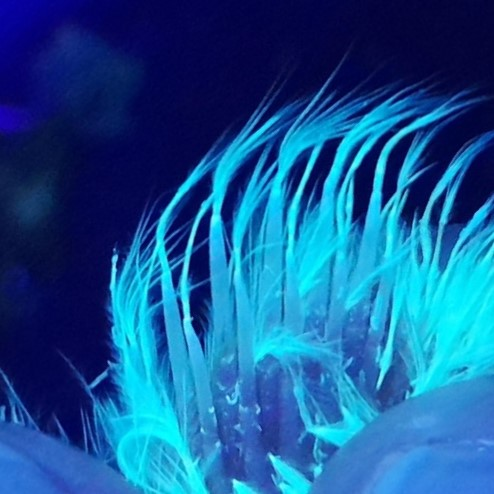female: (138, 168, 452, 480)
